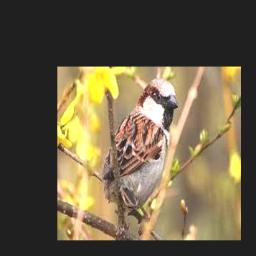Sparrow: (103, 78, 179, 221)
